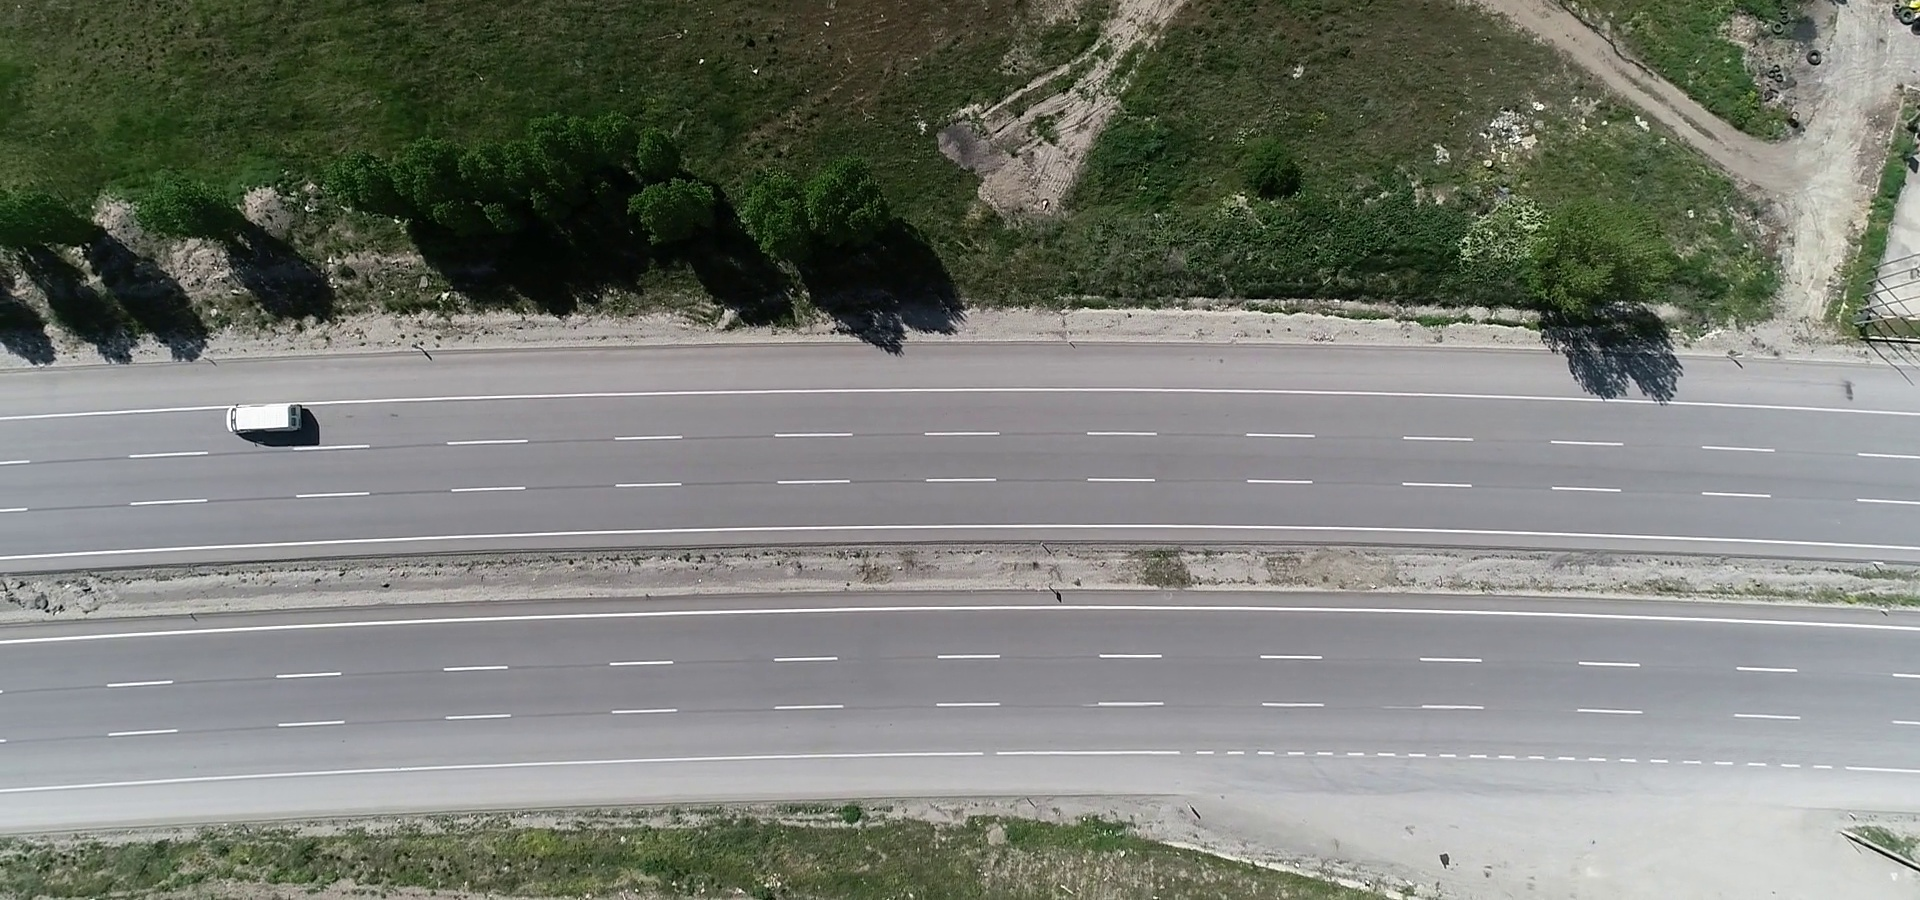araba: (219, 400, 312, 437)
